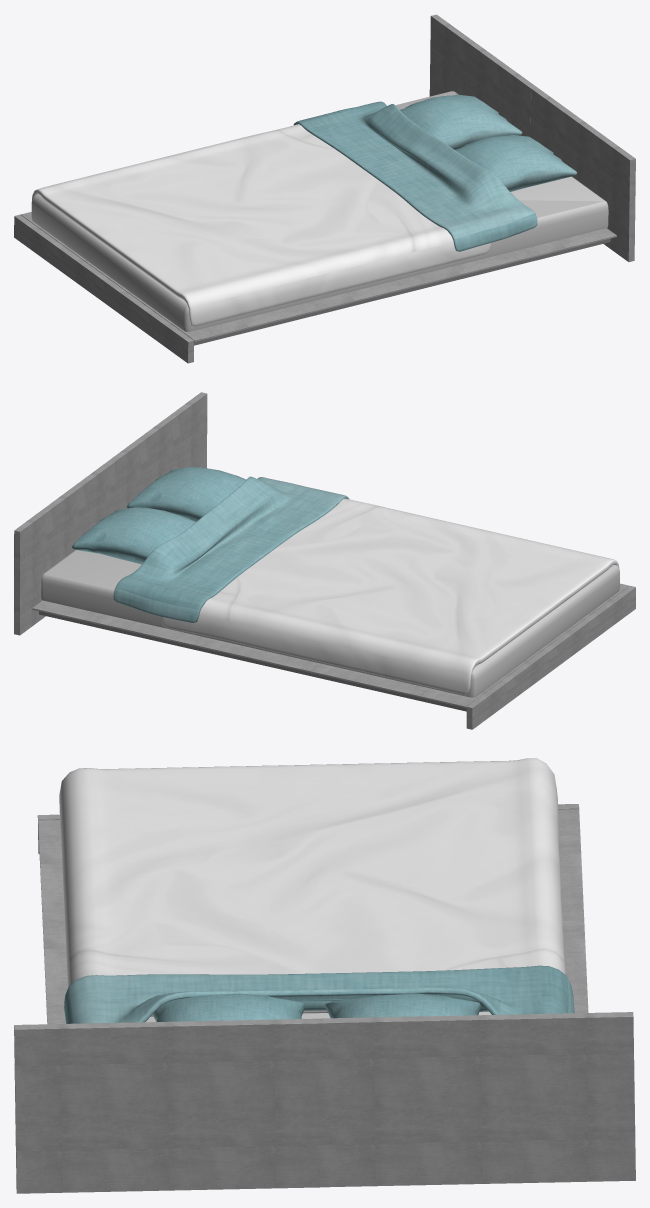
Rendered from Bed.obj.
3 renders of one model, top to bottom at view 1: azimuth 30°, elevation 25°; view 2: azimuth 150°, elevation 25°; view 3: azimuth 270°, elevation 25°, orthographic. The views are drawn at different scales.
Parts seen in each view (by area): view 1: bed:Object02; view 2: bed:Object02; view 3: bed:Object02.
Part boxes in pixels (x1,y1,x2,y2): bed:Object02: (14,14,635,363); bed:Object02: (14,392,635,729); bed:Object02: (14,758,635,1193).
Size of the model in its own units: 3.31 by 0.7644 by 2.49.
